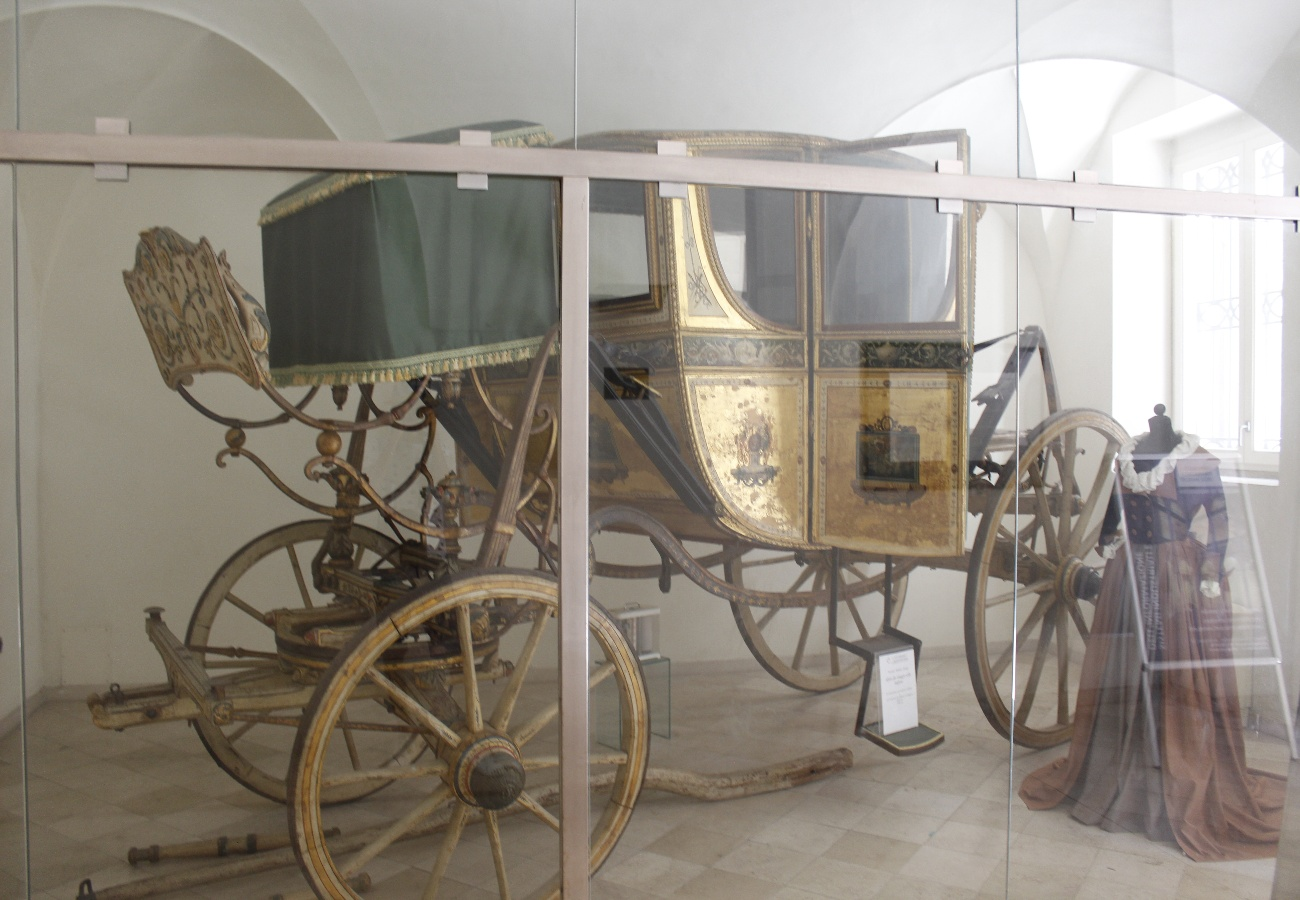Berlina Mosca: (125, 106, 1130, 900)
